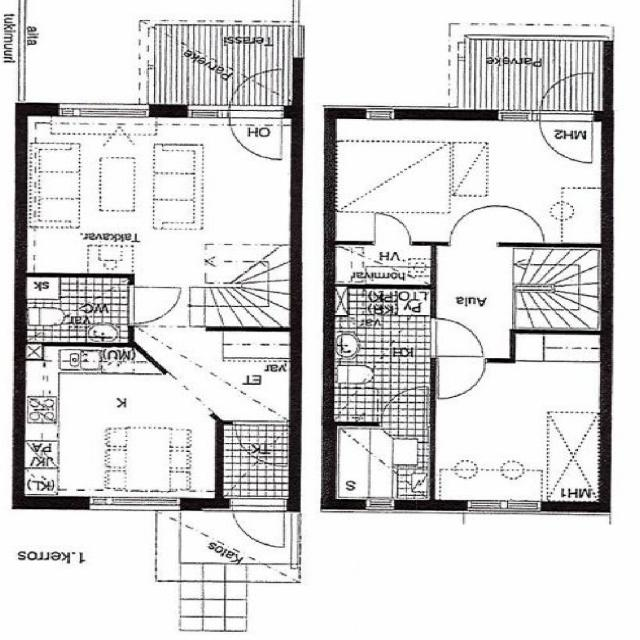door: (231, 497, 285, 553), (540, 64, 594, 120), (540, 106, 594, 162), (229, 63, 282, 117), (229, 104, 282, 158), (234, 420, 287, 466), (450, 204, 497, 246), (439, 358, 485, 400), (430, 319, 483, 355), (128, 287, 180, 322), (382, 386, 427, 426), (375, 214, 410, 247)
